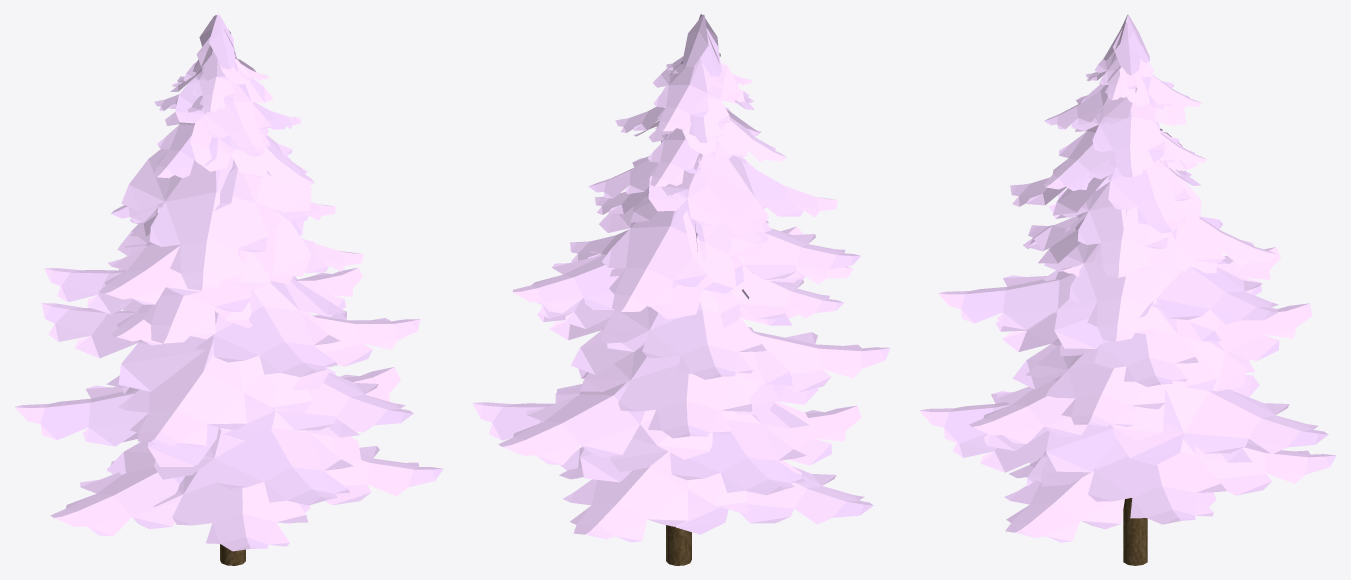
Rendered from tree1.glb.
3 views of the same model, side by side, from view 1: azimuth 30°, elevation 25°; view 2: azimuth 150°, elevation 25°; view 3: azimuth 270°, elevation 25° (orthographic). The views are drawn at different scales.
Parts seen in each view (by area): view 1: Leaves/001_Leavs_0; view 2: Leaves/001_Leavs_0; view 3: Leaves/001_Leavs_0.
Part boxes in pixels (x1=…): Leaves/001_Leavs_0: x1=14, y1=14, x2=443, y2=565; Leaves/001_Leavs_0: x1=472, y1=14, x2=890, y2=565; Leaves/001_Leavs_0: x1=919, y1=14, x2=1336, y2=565.
Bounding box in the file's own units: 7.05 × 10 × 7.05.
2 materials, 1 textured.
